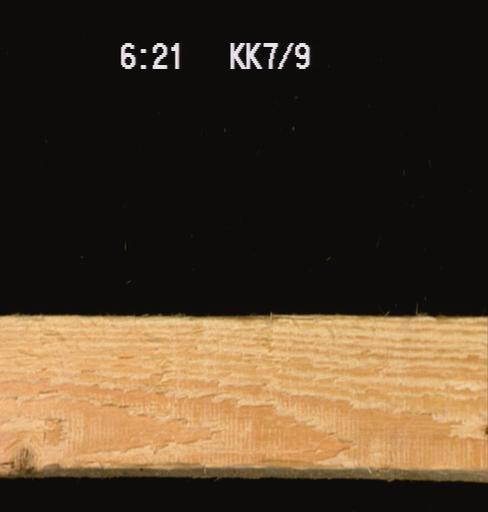edge_knot: (0, 442, 37, 475)
